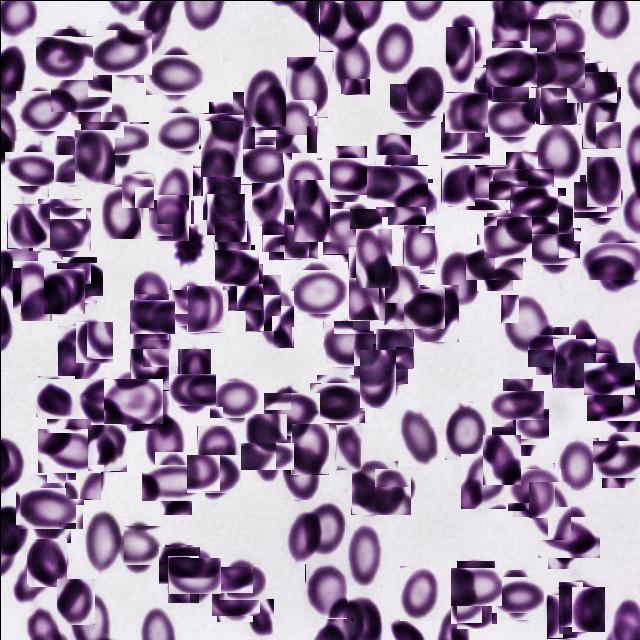red blood cell: (500, 294, 552, 355), (22, 480, 76, 536), (94, 24, 148, 78), (41, 423, 95, 477), (324, 205, 378, 258), (408, 284, 458, 341), (33, 202, 86, 255), (534, 121, 580, 181), (107, 374, 159, 427), (347, 246, 384, 320), (82, 508, 123, 574), (292, 264, 344, 316), (542, 510, 594, 562), (354, 332, 406, 384), (586, 235, 638, 287), (370, 158, 422, 210), (264, 388, 316, 439), (590, 374, 640, 426), (283, 159, 329, 215), (285, 56, 327, 117), (243, 65, 285, 126), (38, 32, 89, 82), (89, 113, 140, 163), (534, 13, 584, 64), (143, 411, 184, 473), (350, 460, 397, 514), (150, 48, 200, 98), (110, 520, 160, 570), (322, 150, 372, 200), (148, 458, 198, 508), (460, 453, 505, 508), (438, 249, 479, 309), (56, 68, 106, 117), (496, 159, 546, 208), (370, 134, 410, 195), (11, 260, 51, 321), (534, 71, 580, 124), (581, 86, 620, 148), (444, 402, 486, 459), (528, 481, 570, 538), (554, 437, 598, 491), (200, 120, 242, 176), (58, 325, 102, 378), (398, 408, 438, 466), (304, 563, 346, 618), (239, 140, 287, 188), (312, 378, 360, 426), (18, 86, 66, 134), (509, 465, 557, 513), (373, 19, 414, 75), (344, 524, 381, 586), (274, 99, 316, 153), (73, 129, 114, 184), (293, 179, 329, 241), (354, 228, 391, 288), (461, 163, 508, 210), (496, 403, 543, 450), (54, 136, 102, 182), (202, 106, 250, 152), (78, 376, 122, 426), (551, 338, 595, 388), (280, 446, 321, 499), (441, 110, 488, 156), (488, 93, 534, 140), (478, 59, 524, 106), (322, 319, 368, 366), (530, 222, 576, 269), (523, 190, 569, 237), (190, 450, 237, 496), (318, 2, 362, 51), (332, 36, 369, 94), (399, 565, 438, 620), (383, 265, 419, 324), (196, 425, 236, 478), (158, 108, 204, 154), (392, 79, 438, 125), (213, 376, 259, 422), (471, 238, 517, 284), (388, 180, 434, 226), (534, 46, 580, 92), (305, 503, 344, 557), (244, 413, 286, 463), (557, 579, 595, 634), (359, 349, 395, 407), (102, 186, 142, 238), (596, 435, 640, 482), (244, 274, 280, 331), (484, 214, 529, 259), (8, 146, 54, 190), (172, 552, 216, 598), (452, 564, 498, 608), (156, 164, 190, 223), (546, 588, 586, 638), (488, 44, 533, 88), (130, 317, 170, 366), (259, 290, 293, 347), (290, 423, 328, 474), (233, 88, 277, 132), (6, 203, 49, 248), (26, 538, 66, 586), (482, 434, 520, 484), (496, 572, 540, 615), (86, 424, 126, 471), (405, 66, 442, 116), (171, 285, 213, 329), (43, 268, 84, 313), (576, 177, 618, 220), (213, 576, 256, 618), (371, 469, 413, 512), (585, 156, 620, 207), (587, 357, 629, 399), (570, 66, 612, 108), (444, 92, 486, 134), (56, 578, 94, 624), (196, 156, 237, 198), (452, 584, 493, 626), (496, 384, 538, 425), (213, 220, 250, 266), (176, 348, 210, 398), (283, 208, 317, 258), (64, 452, 100, 499), (186, 285, 222, 332), (246, 434, 286, 476), (287, 511, 321, 560), (133, 269, 169, 315), (445, 26, 474, 83), (227, 263, 262, 310), (150, 196, 190, 237), (216, 246, 256, 287), (129, 348, 168, 390), (202, 176, 240, 219), (452, 12, 482, 66), (532, 330, 572, 370), (36, 376, 76, 416), (59, 259, 99, 299), (222, 562, 262, 602), (404, 287, 444, 327), (131, 296, 171, 336), (172, 370, 212, 410), (74, 321, 112, 363), (264, 217, 304, 256), (373, 328, 412, 368), (206, 193, 244, 234), (402, 225, 434, 273), (166, 555, 198, 603), (160, 544, 198, 584), (571, 586, 604, 631), (172, 223, 206, 266), (514, 182, 552, 220), (440, 164, 474, 206), (251, 182, 284, 225), (335, 424, 360, 470), (120, 173, 154, 206), (246, 598, 273, 636)
